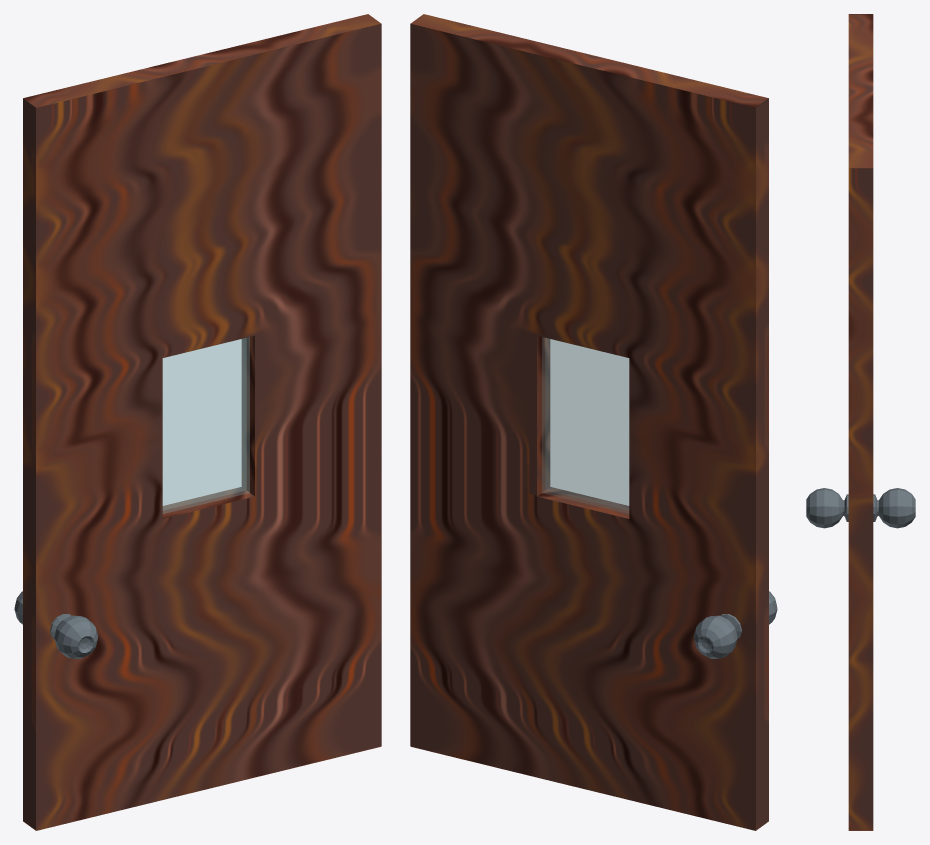
Rendered from WoodDoor_LP.fbx.
The picture shows the model from 3 angles, left to right: view 1: azimuth 30°, elevation 25°; view 2: azimuth 150°, elevation 25°; view 3: azimuth 270°, elevation 25°; orthographic projection. The views are drawn at different scales.
Visible parts, largest first — view 1: WoodDoor, WoodDoor_Glass, DoorKnob; view 2: WoodDoor, WoodDoor_Glass, DoorKnob; view 3: WoodDoor, DoorKnob.
Part boxes in pixels (box(x1,y1,x2,y2)): WoodDoor: box(23, 14, 381, 830); WoodDoor_Glass: box(162, 337, 249, 513); DoorKnob: box(14, 591, 98, 658); WoodDoor: box(410, 14, 768, 830); WoodDoor_Glass: box(542, 337, 629, 513); DoorKnob: box(693, 591, 777, 658); WoodDoor: box(848, 14, 873, 830); DoorKnob: box(806, 488, 915, 528).
Bounding box in the file's own units: 900 × 270 × 1800.
Materials: 3 (1 with a texture image).
